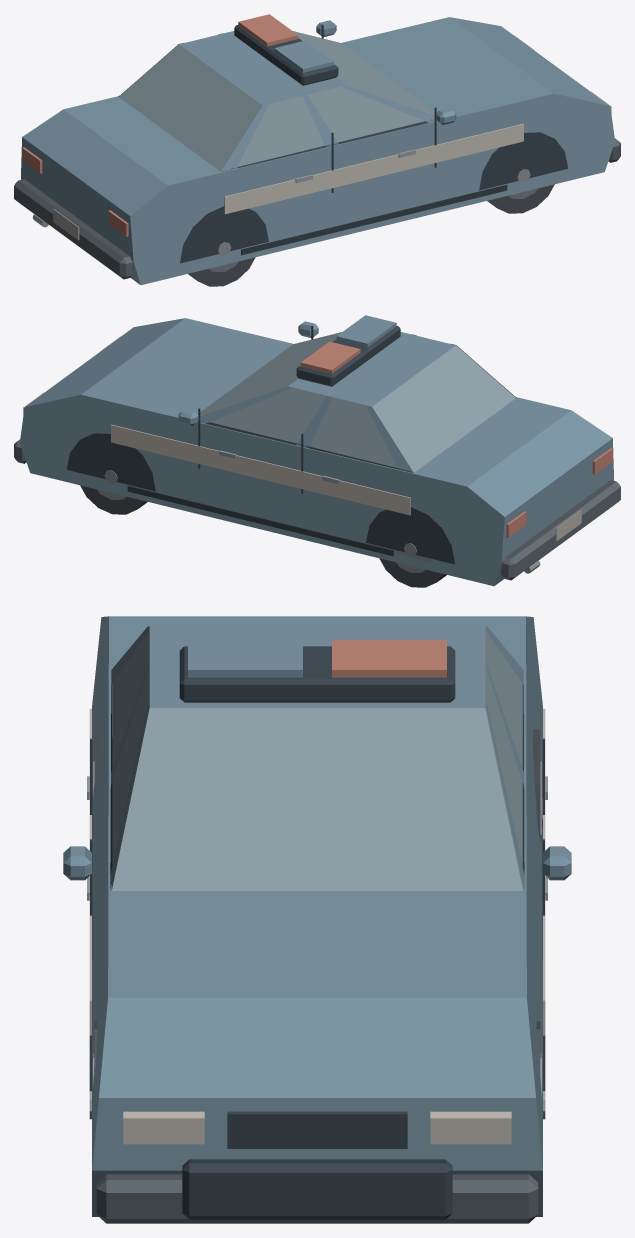
The model's file is vehiculo_police.glb.
3 views of the same model, one above another, from view 1: azimuth 30°, elevation 25°; view 2: azimuth 150°, elevation 25°; view 3: azimuth 270°, elevation 25° (orthographic). The views are drawn at different scales.
Bounding box in the file's own units: 4.9 × 1.61 × 2.12.
